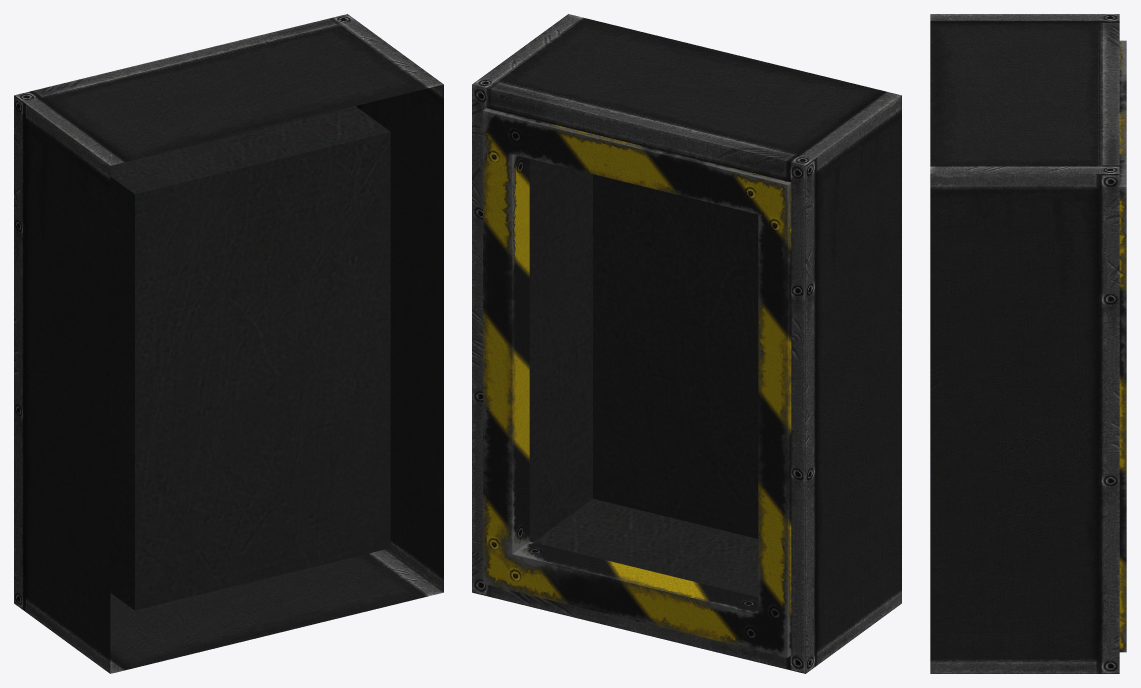
The model's file is steam_box.DAE.
The picture shows the model from 3 angles, left to right: view 1: azimuth 30°, elevation 25°; view 2: azimuth 150°, elevation 25°; view 3: azimuth 270°, elevation 25°; orthographic projection.
Visible parts, largest first — view 1: steam_box; view 2: steam_box; view 3: steam_box.
Part boxes in pixels (x1,y1,x2,y2): steam_box: [14, 14, 443, 673]; steam_box: [472, 14, 901, 673]; steam_box: [930, 14, 1126, 673].
Size of the model in its own units: 1.25 by 0.6483 by 1.82.
